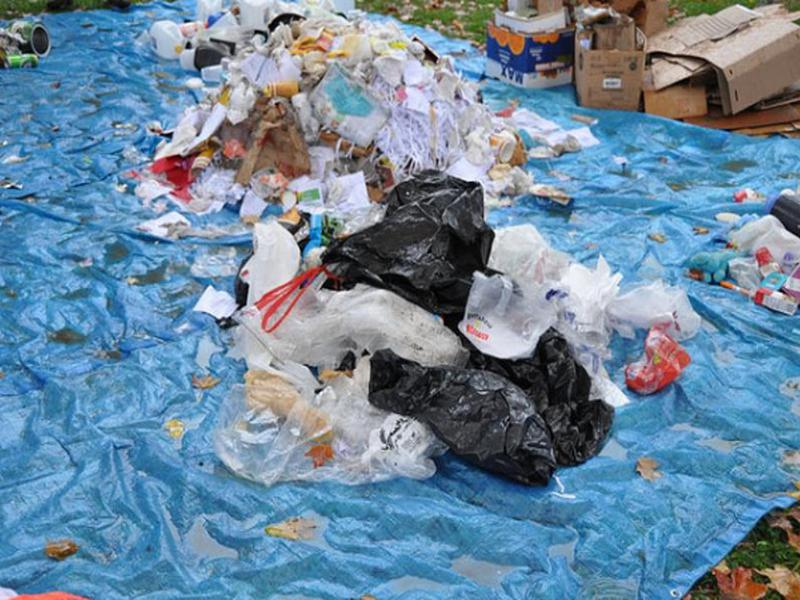plastic: (367, 336, 623, 493), (209, 356, 457, 492), (307, 158, 502, 323), (219, 255, 474, 376), (609, 268, 712, 342), (234, 214, 304, 307), (622, 326, 701, 406), (722, 209, 800, 272)
